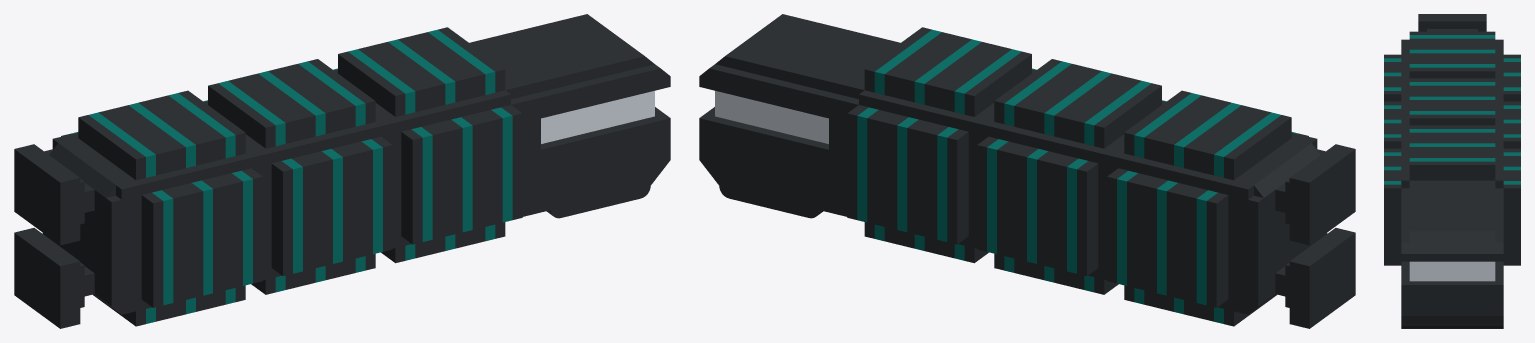
The model's file is Ship.fbx.
3 views of the same model, side by side, from view 1: azimuth 30°, elevation 25°; view 2: azimuth 150°, elevation 25°; view 3: azimuth 270°, elevation 25° (orthographic). The views are drawn at different scales.
Visible parts, largest first — view 1: generated; view 2: generated; view 3: generated.
Part boxes in pixels (bbox=[...]): generated: bbox=[14, 14, 670, 328]; generated: bbox=[699, 14, 1355, 328]; generated: bbox=[1384, 14, 1520, 328].
Bounding box in the file's own units: 600 × 160 × 160.
